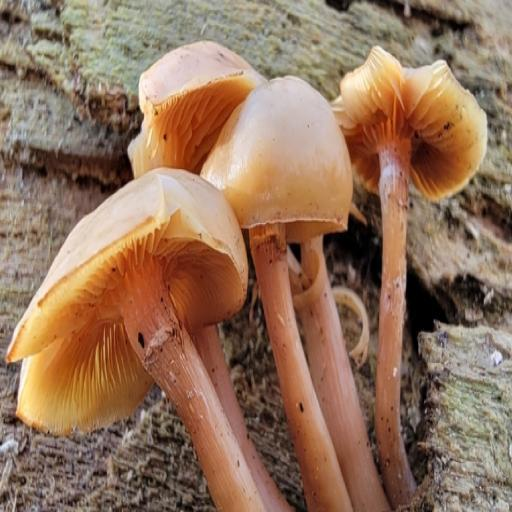mushroom: (4, 29, 492, 467)
